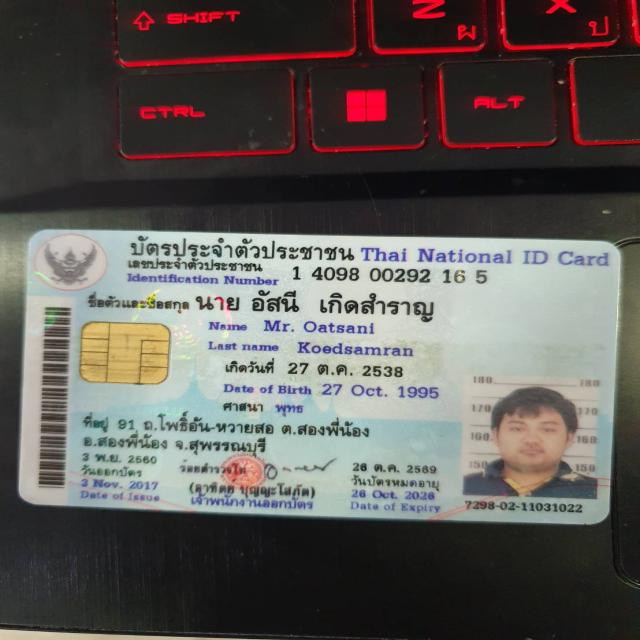Address_th: (76, 410, 380, 460)
Date_of_Birth: (314, 379, 449, 403)
Date_of_Expiry: (344, 488, 444, 503)
Date_of_Issue: (73, 476, 163, 492)
First_Name: (257, 316, 380, 338)
ID_Number: (284, 264, 502, 288)
Image: (463, 373, 599, 500)
Last_Name: (292, 339, 420, 360)
Thai_Name: (189, 285, 452, 323)
